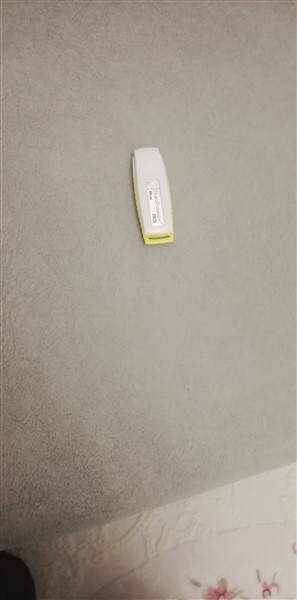flash disk: (126, 145, 184, 250)
